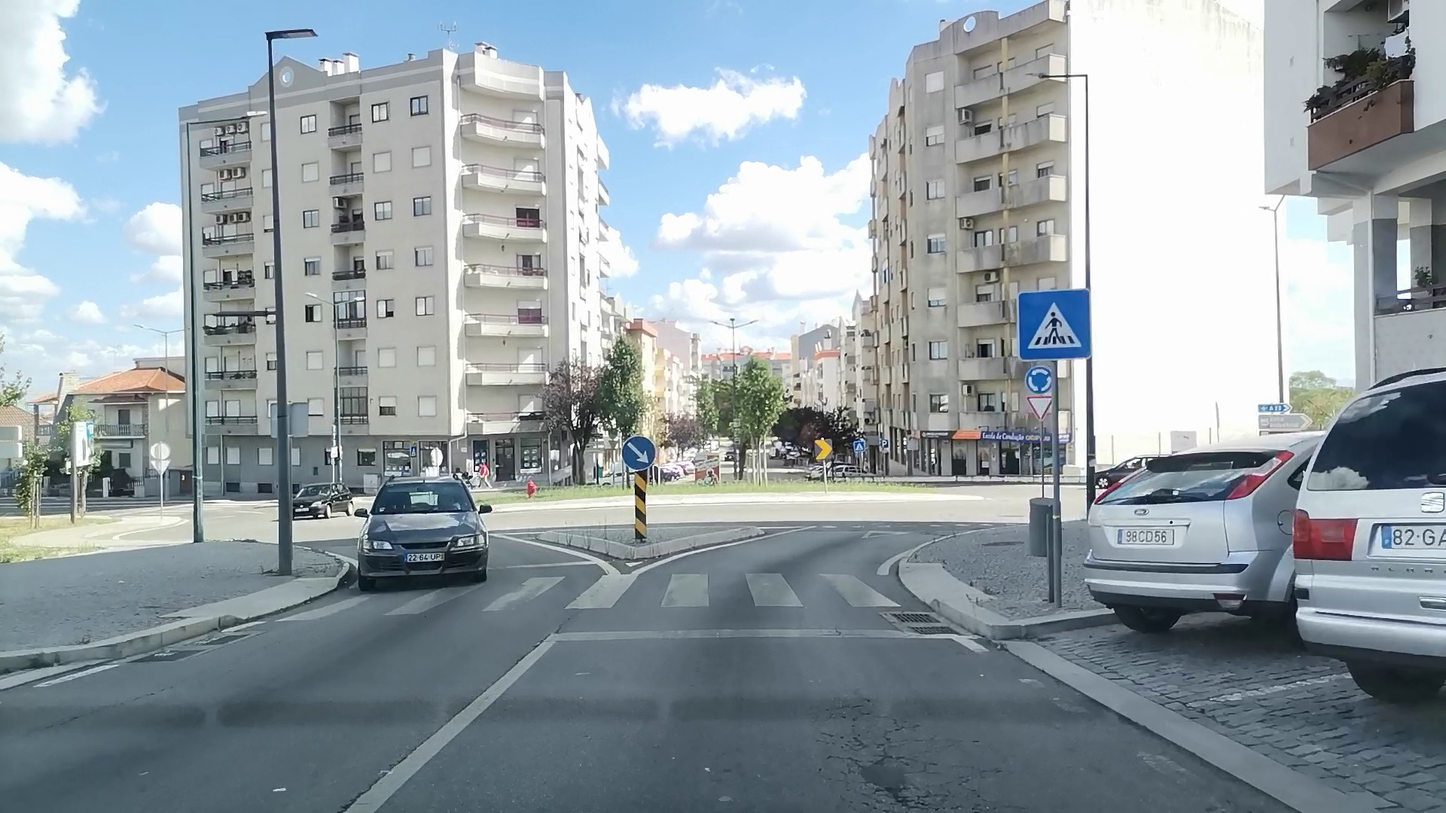Stairs: (271, 572, 897, 625)
